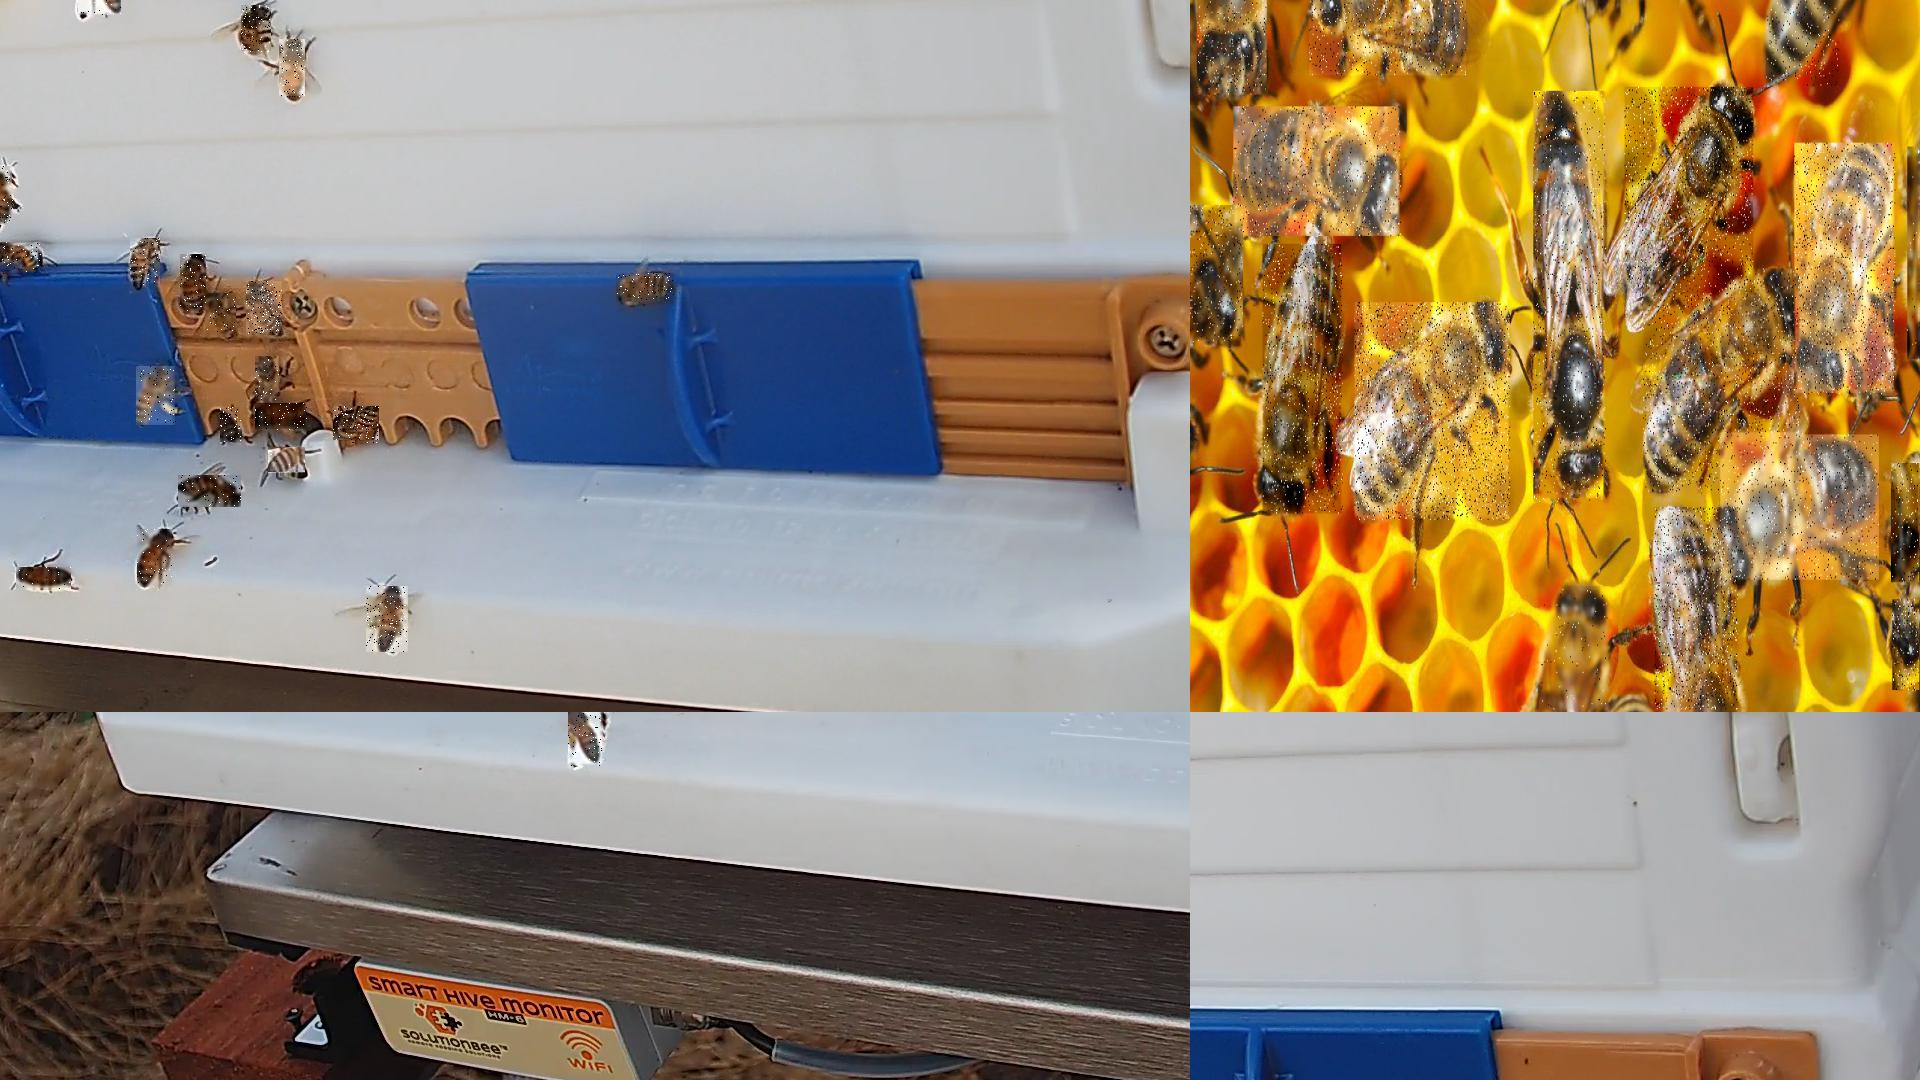bee: (1643, 269, 1800, 493), (1356, 303, 1511, 522), (1625, 88, 1754, 298), (1795, 144, 1898, 397), (1721, 435, 1879, 582), (1234, 107, 1403, 237), (1263, 244, 1344, 516), (1655, 508, 1738, 712), (1309, 0, 1466, 76), (1539, 587, 1609, 711), (1189, 206, 1244, 345), (1197, 0, 1269, 96), (1766, 0, 1840, 87), (1891, 463, 1919, 584), (1892, 599, 1920, 692), (1908, 146, 1919, 363), (178, 475, 243, 508), (137, 529, 173, 588), (247, 282, 284, 336), (334, 406, 380, 444), (616, 274, 675, 302), (280, 40, 306, 99), (181, 255, 207, 314), (241, 5, 272, 55), (0, 243, 44, 277), (256, 404, 309, 431), (131, 239, 161, 286), (206, 294, 237, 338), (16, 568, 73, 591), (256, 357, 281, 402), (269, 448, 306, 477), (0, 166, 15, 227), (78, 0, 123, 18), (220, 407, 243, 443)
pollenbee: (367, 585, 409, 653), (137, 367, 178, 426), (568, 712, 607, 767)
queen: (1534, 92, 1607, 504)
